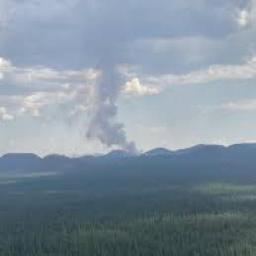Low smoke: (71, 41, 162, 167)
